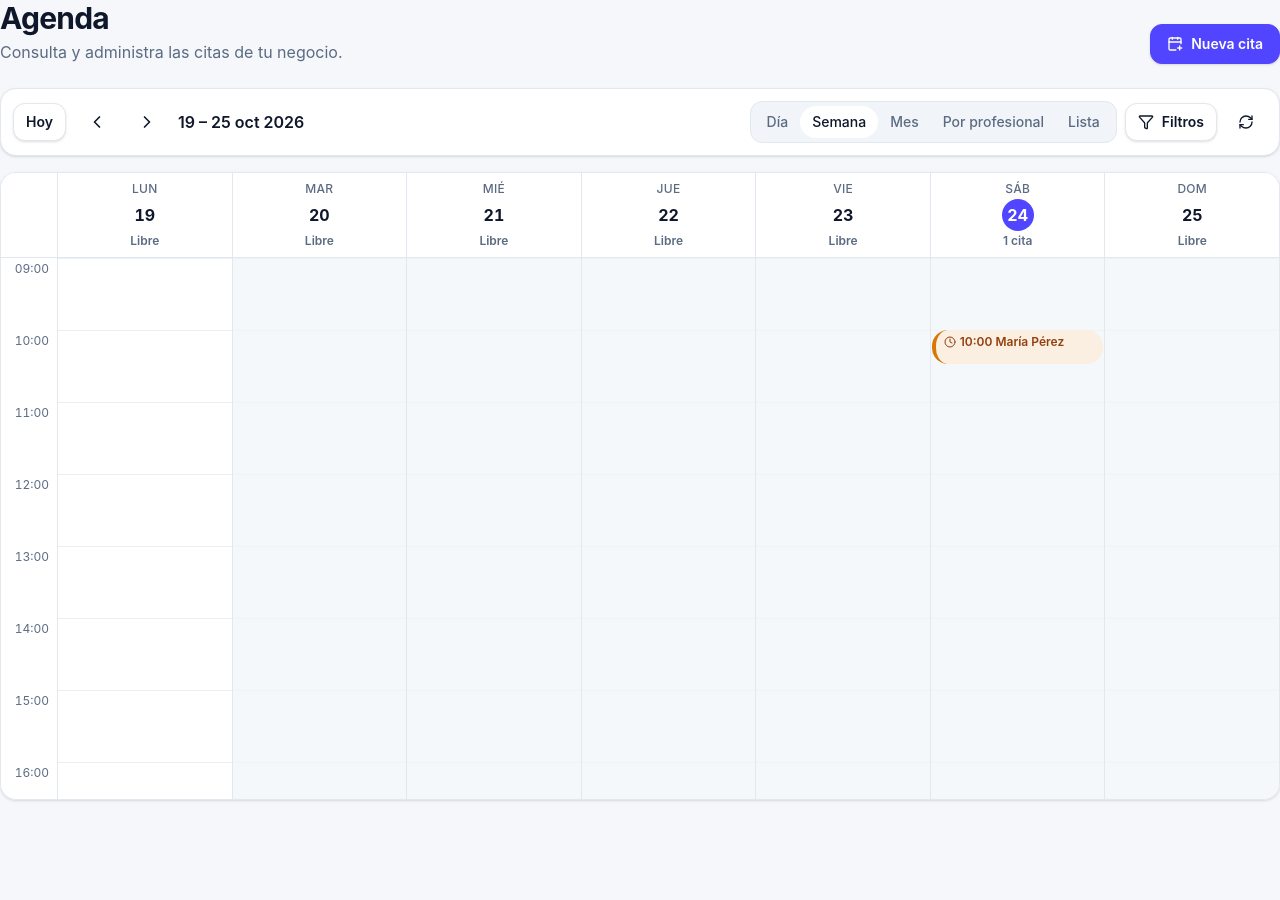
it: CalendarPage (Agenda) › cancelar pide confirmación con resumen y motivo, y envía el motivo
(page scrolled)
Click the button "10:00 María Pérez" at (1017, 347), box [932,330,1103,364]
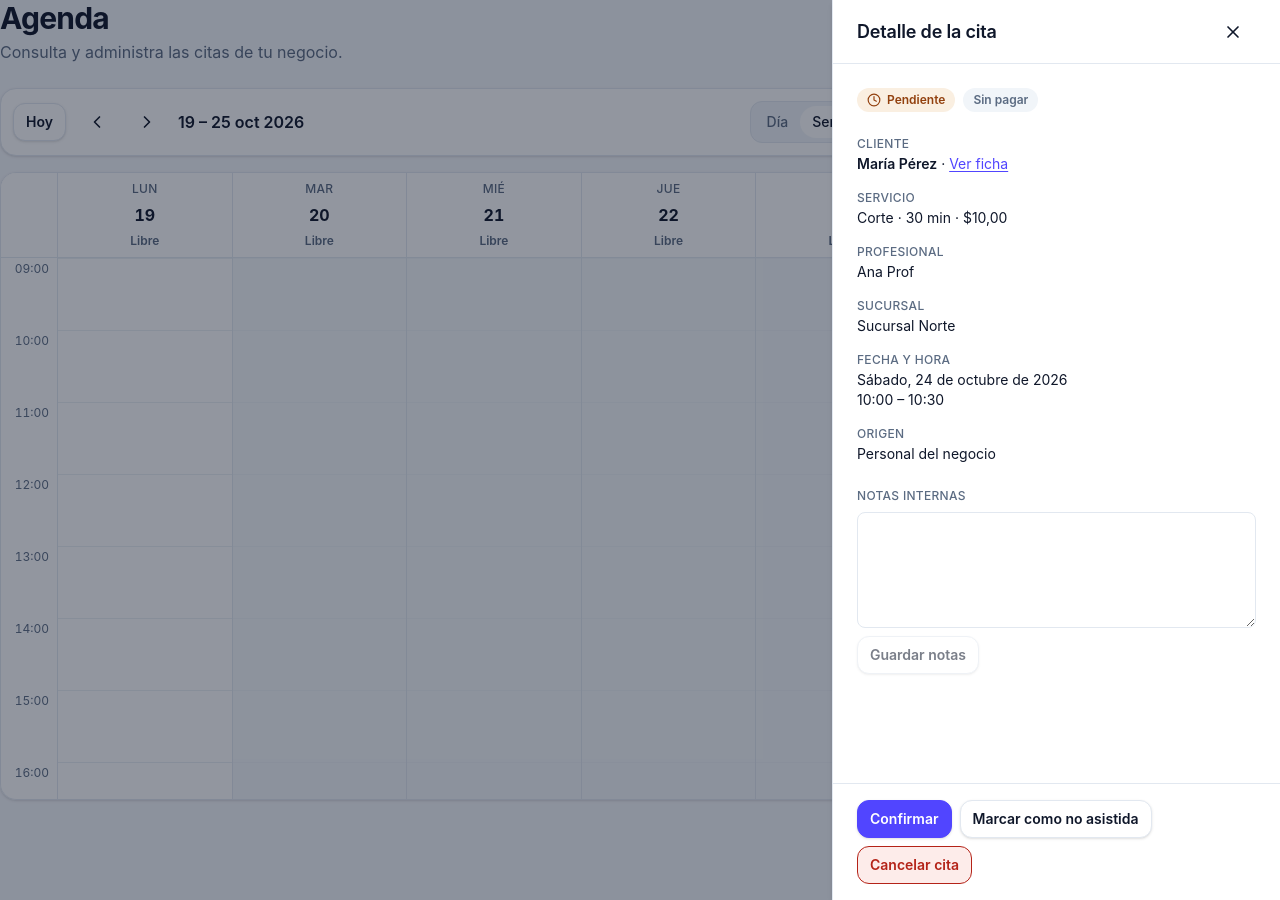
Click the button "Cancelar cita" at (914, 865), box [857,846,972,884]
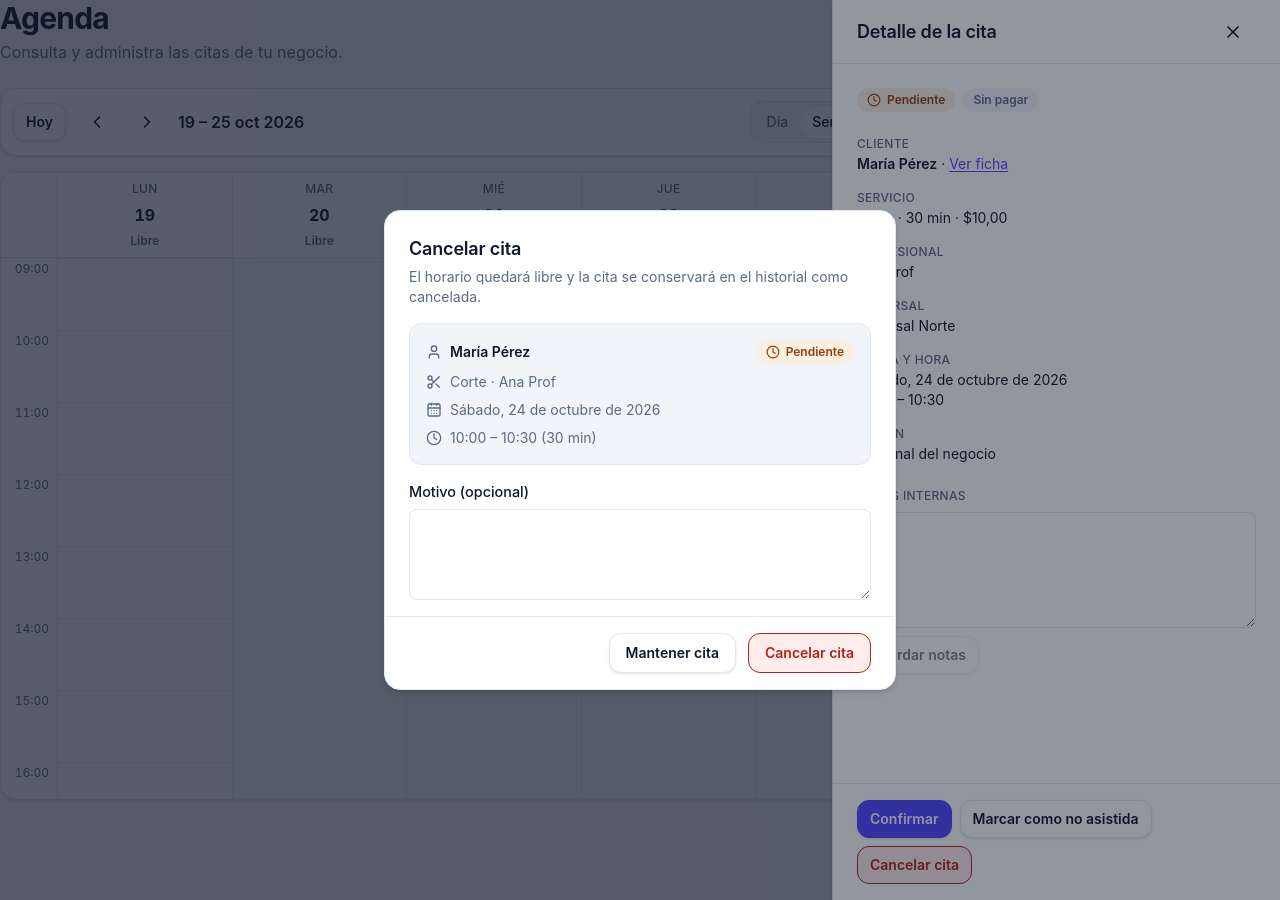
Expected: the text "María Pérez" is shown, [426,342,530,362]
Type "El cliente avisó" into the text box labelled "Motivo (opcional)" at (640, 554), box [409,508,871,600]
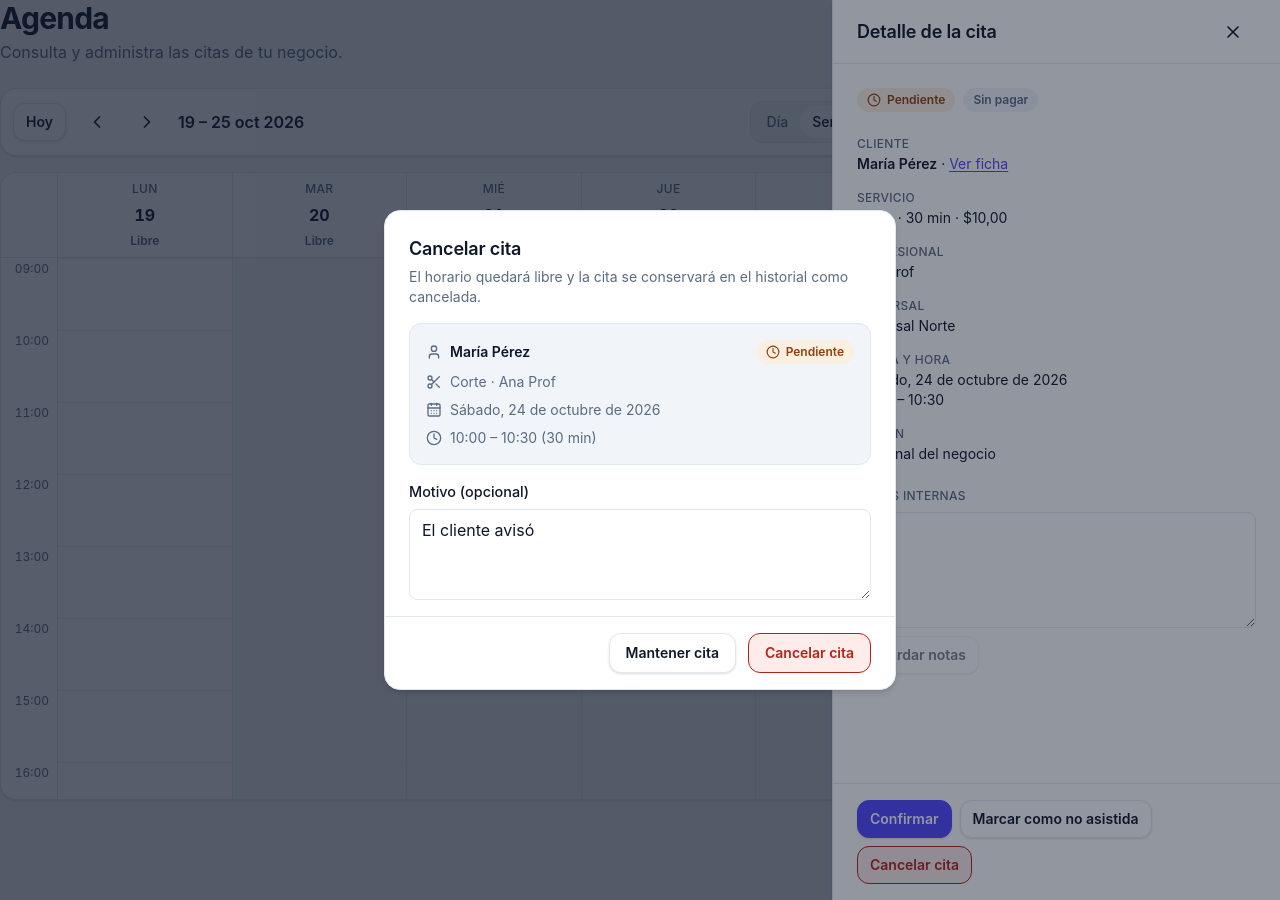
Click the button "Cancelar cita" at (810, 653), box [748,633,871,673]
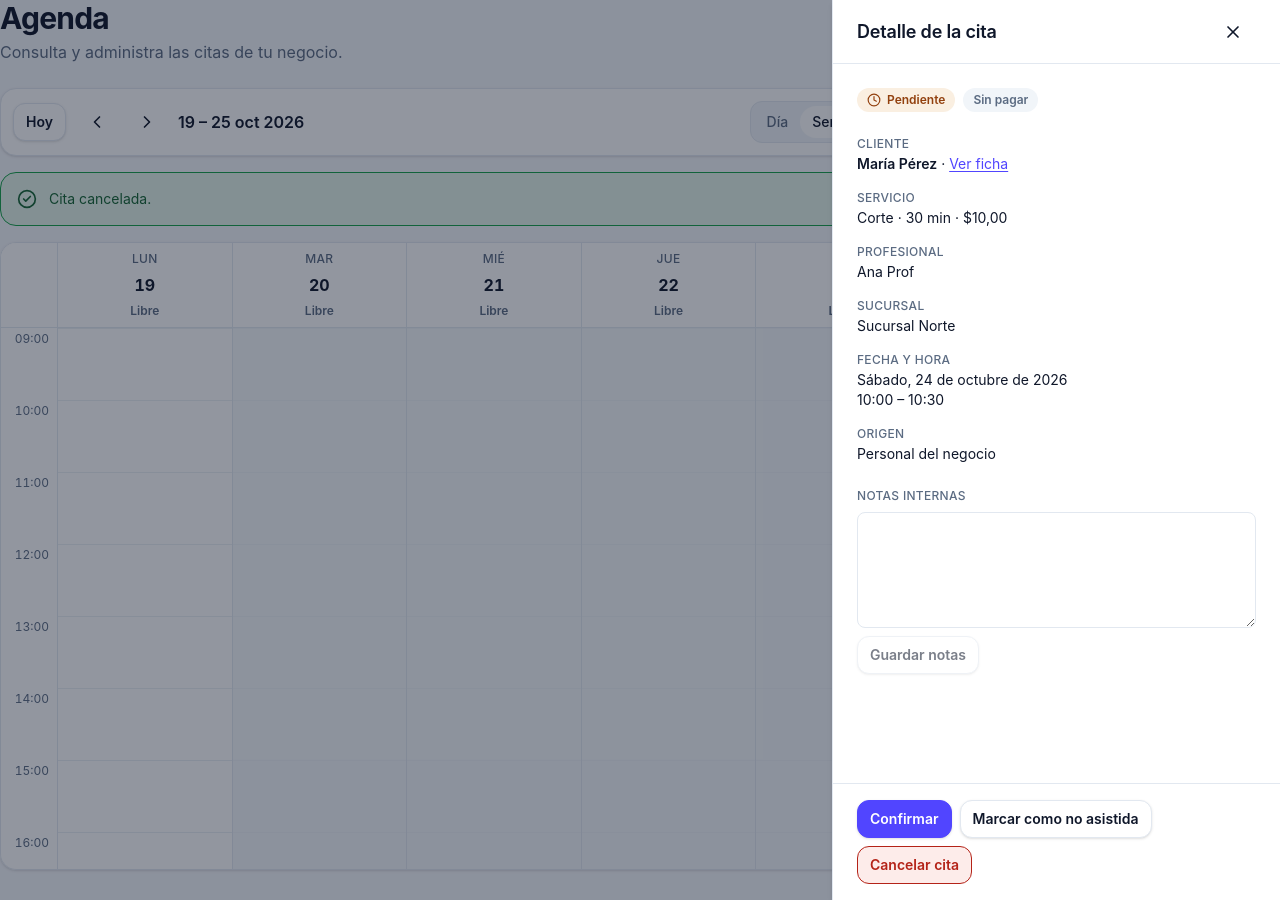
Expected: the text "Cita cancelada." is shown, [49,190,151,207]
